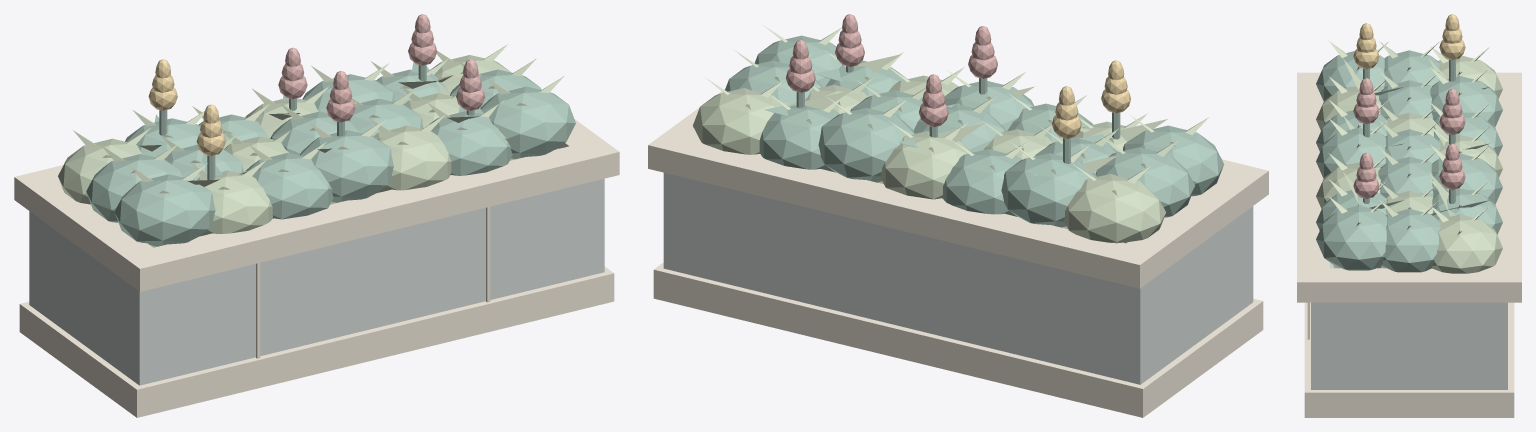
File: prop-flowerbed.glb
The picture shows the model from 3 angles, left to right: view 1: azimuth 30°, elevation 25°; view 2: azimuth 150°, elevation 25°; view 3: azimuth 270°, elevation 25°; orthographic projection. The views are drawn at different scales.
Parts seen in each view (by area): view 1: plinth_1, stone_planter_0; view 2: plinth_1, stone_planter_0; view 3: plinth_1, stone_planter_0.
Part boxes in pixels (x1,y1,x2,y2): plinth_1: [14, 14, 619, 417]; stone_planter_0: [29, 178, 604, 385]; plinth_1: [648, 14, 1268, 417]; stone_planter_0: [663, 172, 1253, 384]; plinth_1: [1297, 14, 1521, 417]; stone_planter_0: [1311, 263, 1507, 389].
Size of the model in its own units: 1.96 by 1.06 by 0.8899.
Materials: 2 (2 with a texture image).
